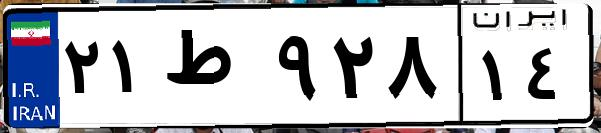1: (475, 38, 525, 113), (110, 28, 158, 98)
2: (330, 28, 385, 110), (57, 26, 110, 100)
4: (525, 38, 570, 115)
8: (385, 28, 445, 110)
9: (270, 28, 330, 110)
ط: (158, 20, 270, 120)
